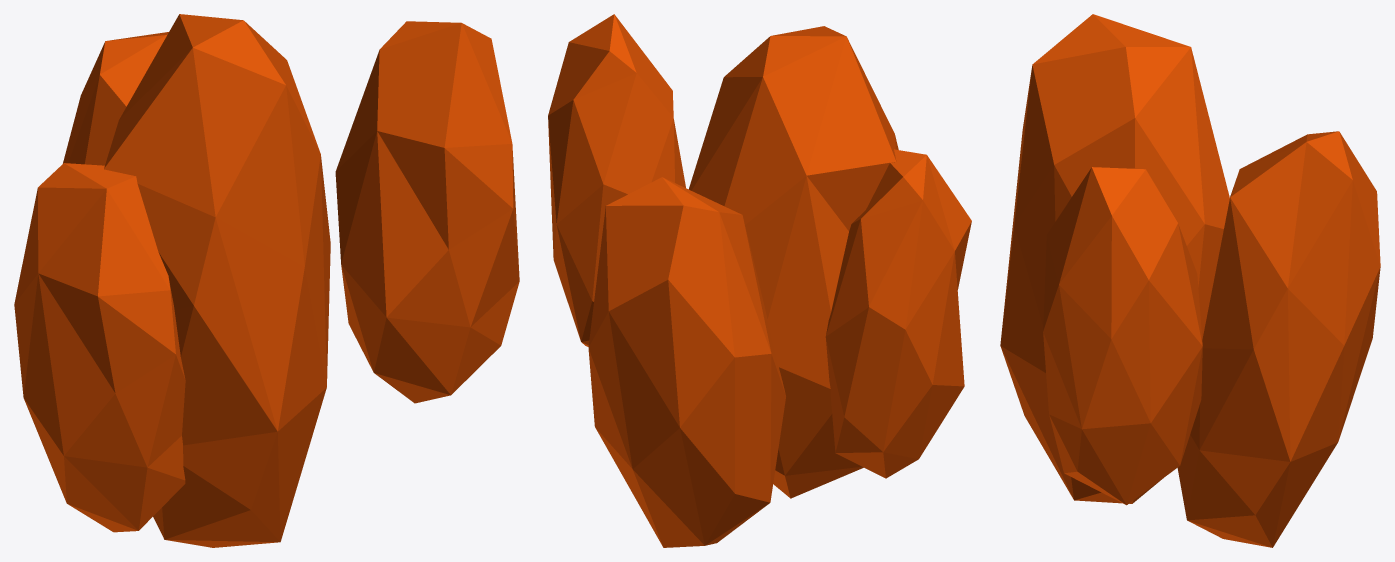
Rendered from tree-autumn-leaves-13-043.glb.
3 renders of one model, left to right at view 1: azimuth 30°, elevation 25°; view 2: azimuth 150°, elevation 25°; view 3: azimuth 270°, elevation 25°, orthographic. The views are drawn at different scales.
Visible parts, largest first — view 1: TREE 13.003_388; view 2: TREE 13.003_388; view 3: TREE 13.003_388.
Part boxes in pixels (<box>): TREE 13.003_388: <box>14,14,519,547</box>; TREE 13.003_388: <box>548,14,971,547</box>; TREE 13.003_388: <box>1000,14,1380,547</box>.
Bounding box in the file's own units: 0.9813 × 1.11 × 0.7767.
